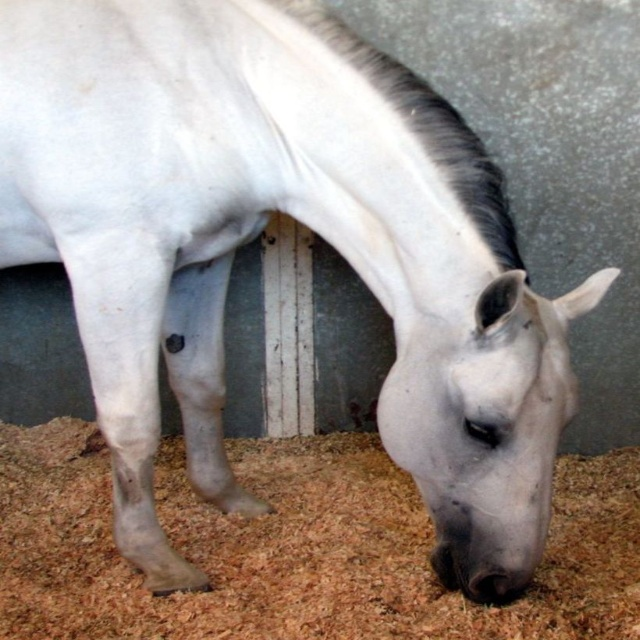Horse: (0, 0, 624, 610)
